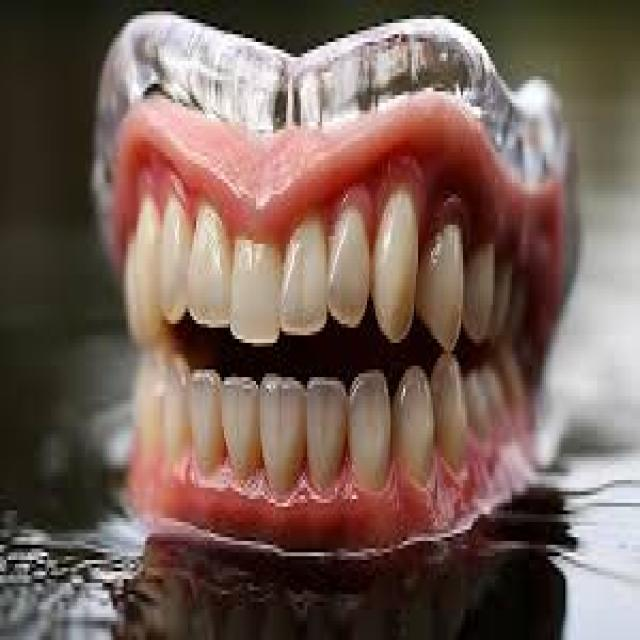tooth: (365, 198, 424, 343), (258, 377, 316, 488), (230, 236, 280, 347), (277, 236, 331, 335), (418, 244, 474, 339), (352, 366, 397, 480), (395, 370, 437, 488), (188, 217, 230, 332), (326, 225, 374, 324), (307, 385, 350, 491), (424, 366, 474, 457), (188, 374, 228, 468), (134, 217, 164, 332), (162, 209, 192, 324), (226, 381, 260, 469), (162, 347, 188, 457)
